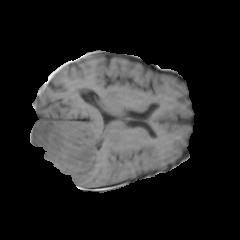glioma: (31, 121, 103, 183)
